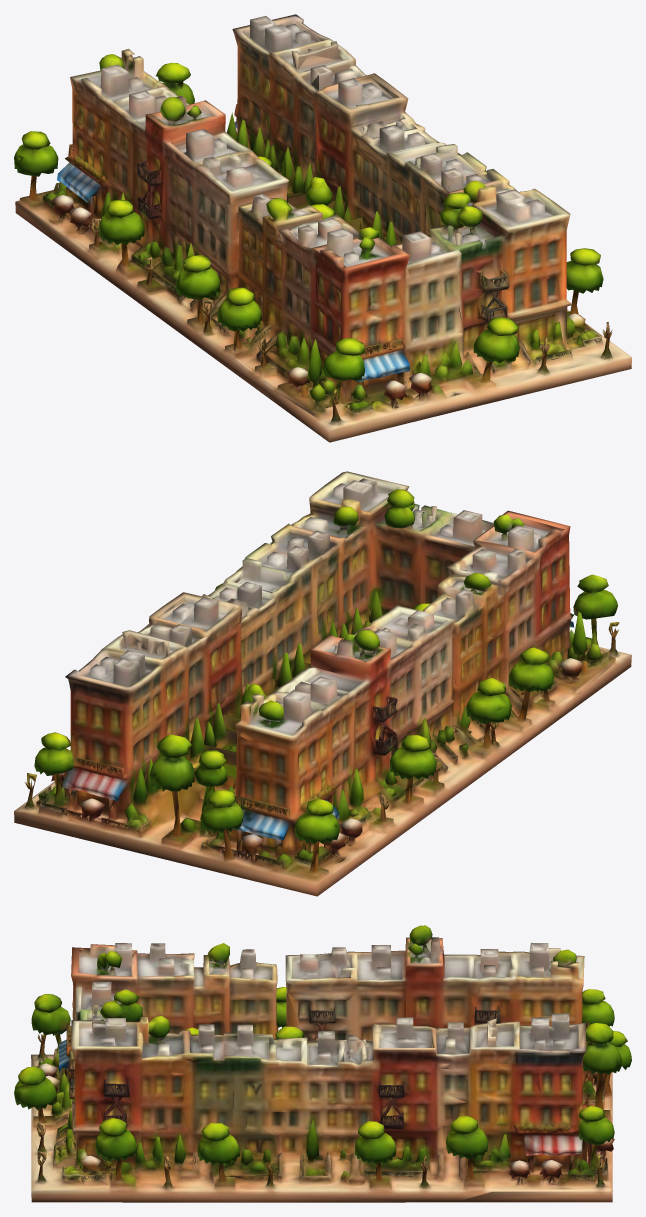
Rendered from block-rowhouses-a.glb.
3 views of the same model, one above another, from view 1: azimuth 30°, elevation 25°; view 2: azimuth 150°, elevation 25°; view 3: azimuth 270°, elevation 25° (orthographic). The views are drawn at different scales.
Visible parts, largest first — view 1: low; view 2: low; view 3: low.
Boxes of the visible parts, bbox=[...] form: low: bbox=[14, 14, 631, 442]; low: bbox=[14, 471, 631, 896]; low: bbox=[14, 925, 631, 1202].
Size of the model in its own units: 0.5624 by 0.2874 by 0.9787.
Materials: 1 (1 with a texture image).
